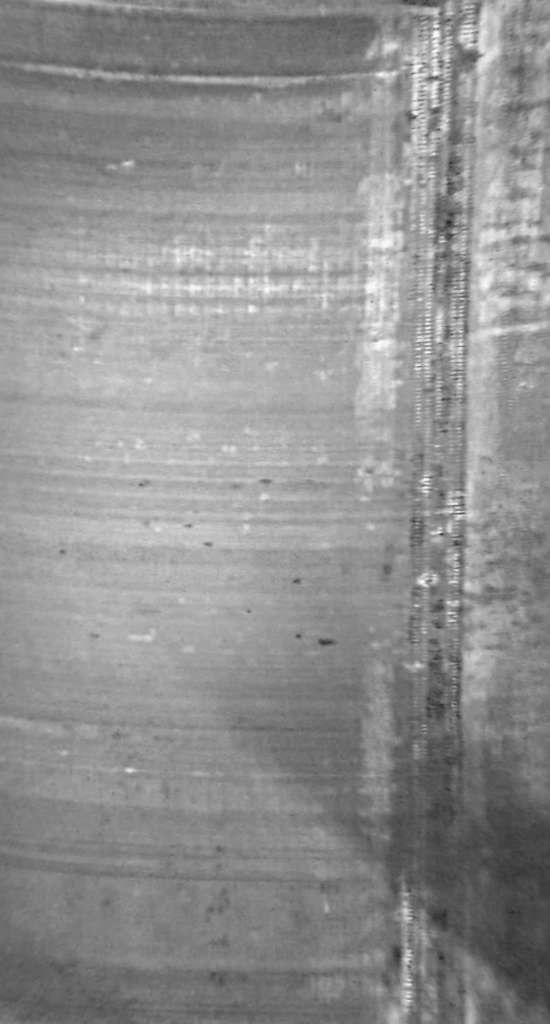splice: (393, 4, 481, 1024)
